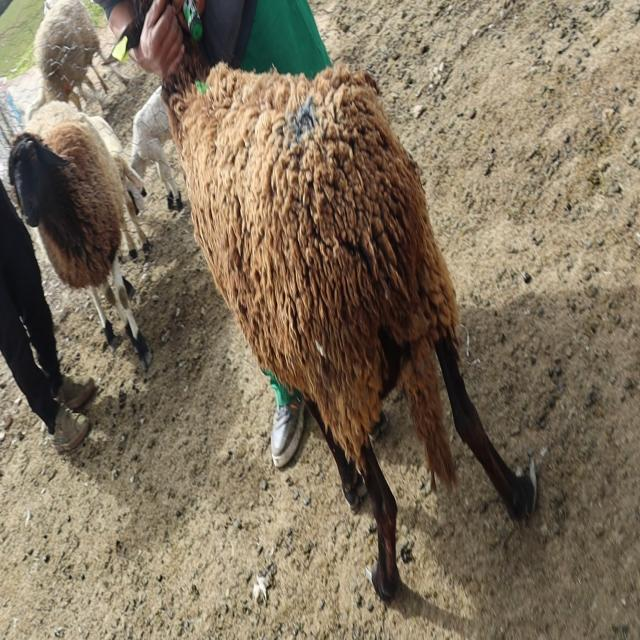Score_1: (162, 40, 537, 601)
